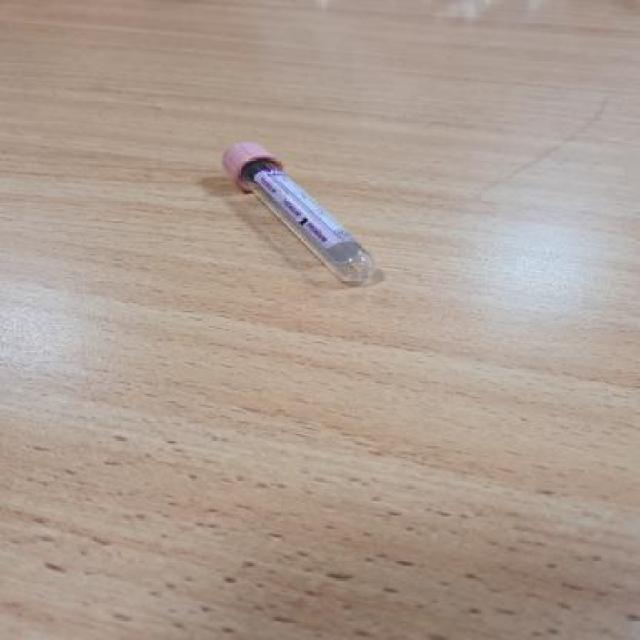Experimental-tube: (220, 138, 382, 284)
